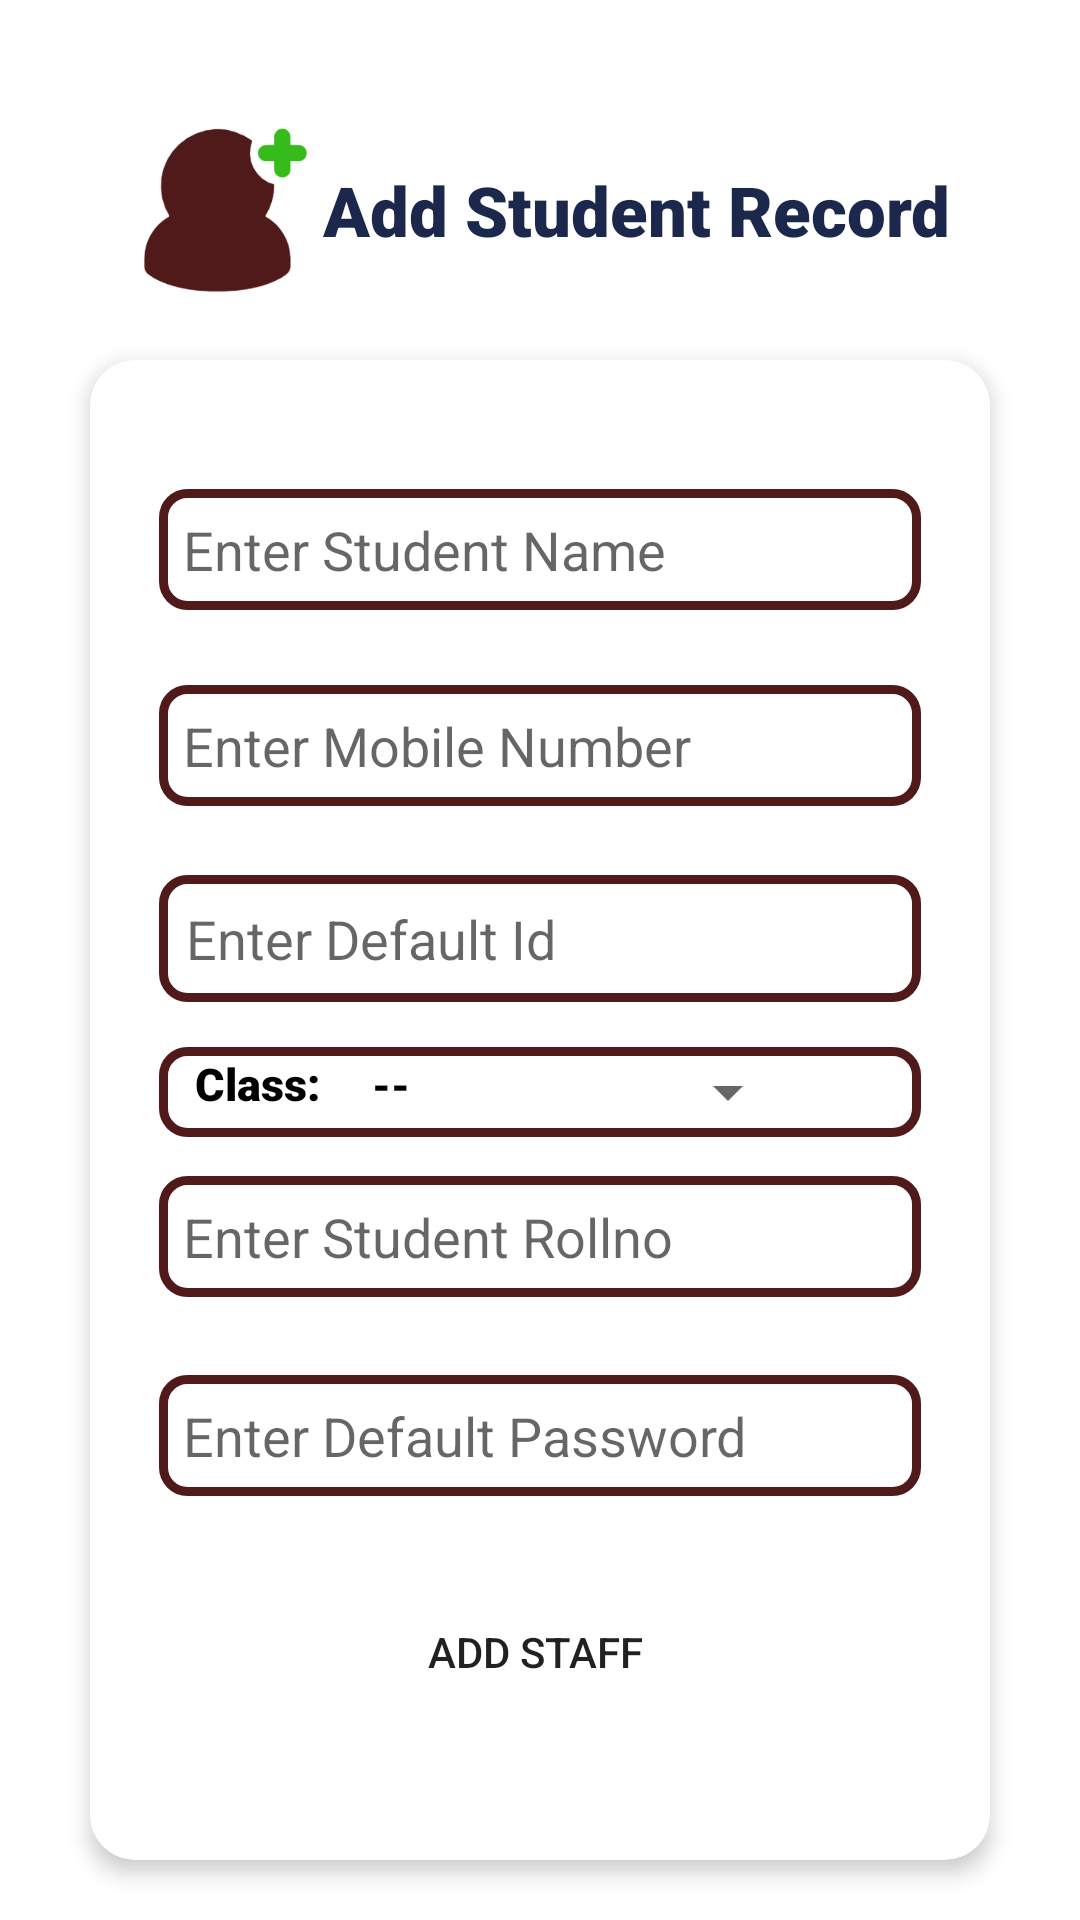

Icon click points for this 1080 × 1920 phone screenshot, format (x,y):
addstudenticon: (225,210)
